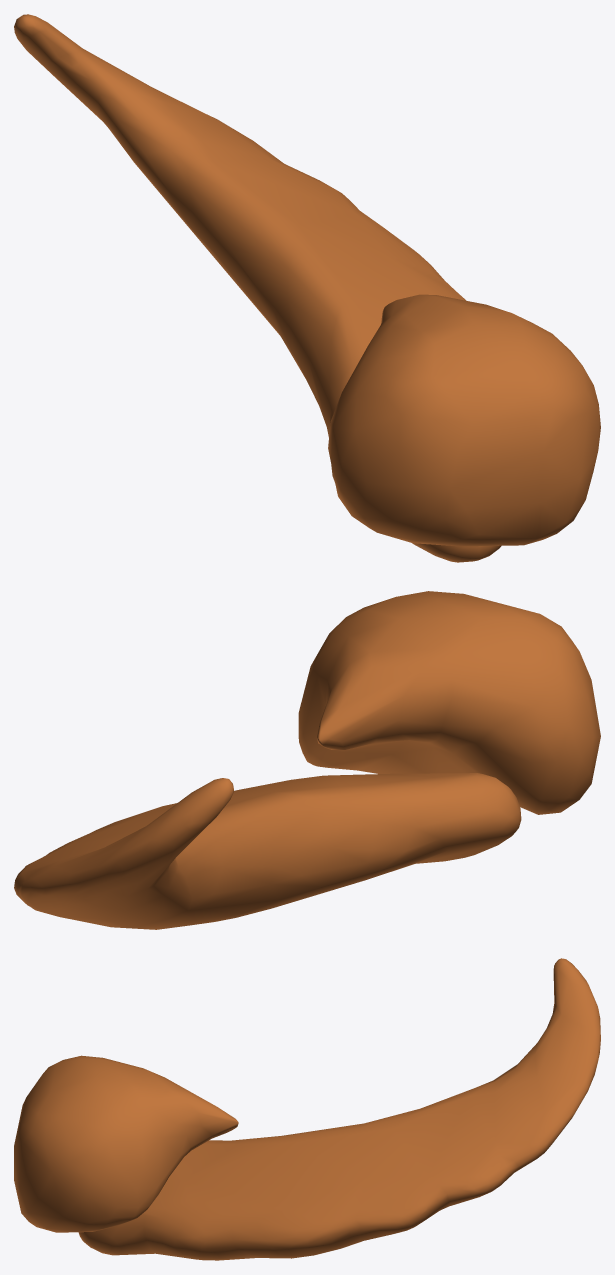
Rendered from Hippo.L.001.fbx.
3 renders of one model, top to bottom at view 1: azimuth 30°, elevation 25°; view 2: azimuth 150°, elevation 25°; view 3: azimuth 270°, elevation 25°, orthographic. The views are drawn at different scales.
Parts seen in each view (by area): view 1: Amygdaloid body.l.001; view 2: Amygdaloid body.l.001; view 3: Amygdaloid body.l.001.
Part boxes in pixels (box(x1,y1,x2,y2)): Amygdaloid body.l.001: box(14, 14, 600, 562); Amygdaloid body.l.001: box(14, 591, 600, 929); Amygdaloid body.l.001: box(14, 958, 600, 1260).
Size of the model in its own units: 1.97 by 4.66 by 2.13.
